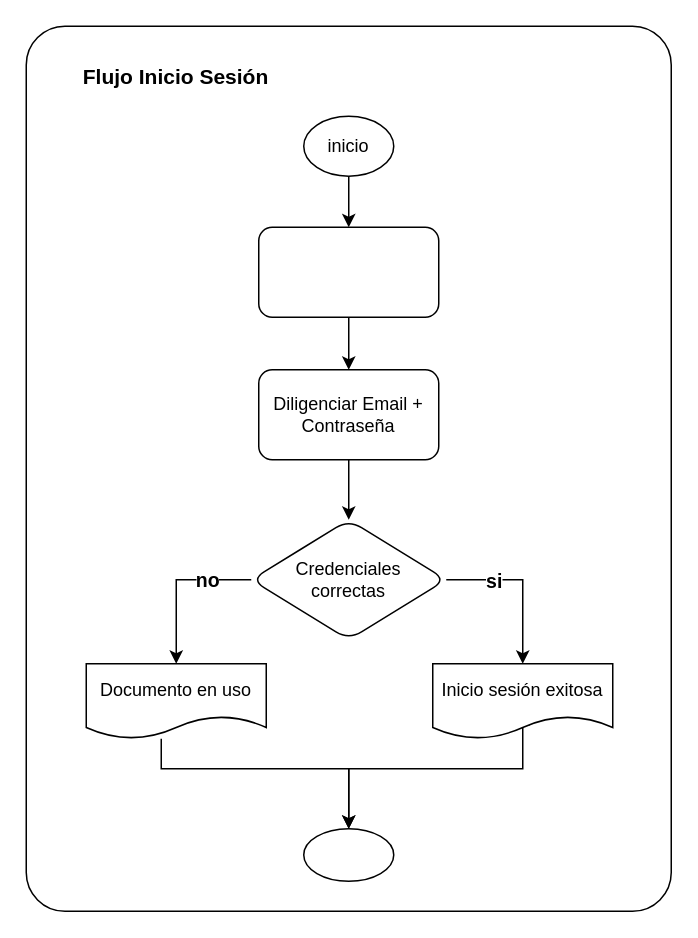
Some shapes in this 698 by 938 pixel diagram are drawn without their labels. The centre of each missing label's shape, as x and y in pixels:
Accionar el botón de "Iniciar Sesión": [348,271]
fin: [348,854]
